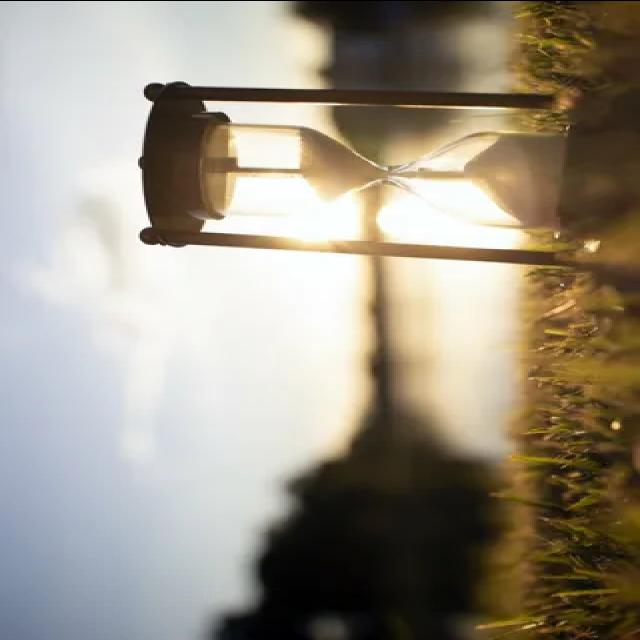clock: (127, 74, 616, 274)
